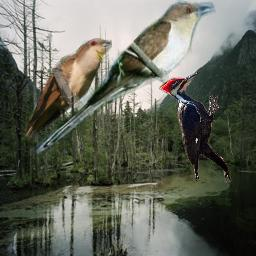Cuckoo: (30, 0, 219, 160), (21, 38, 112, 145)
Woodpecker: (159, 71, 232, 183)
